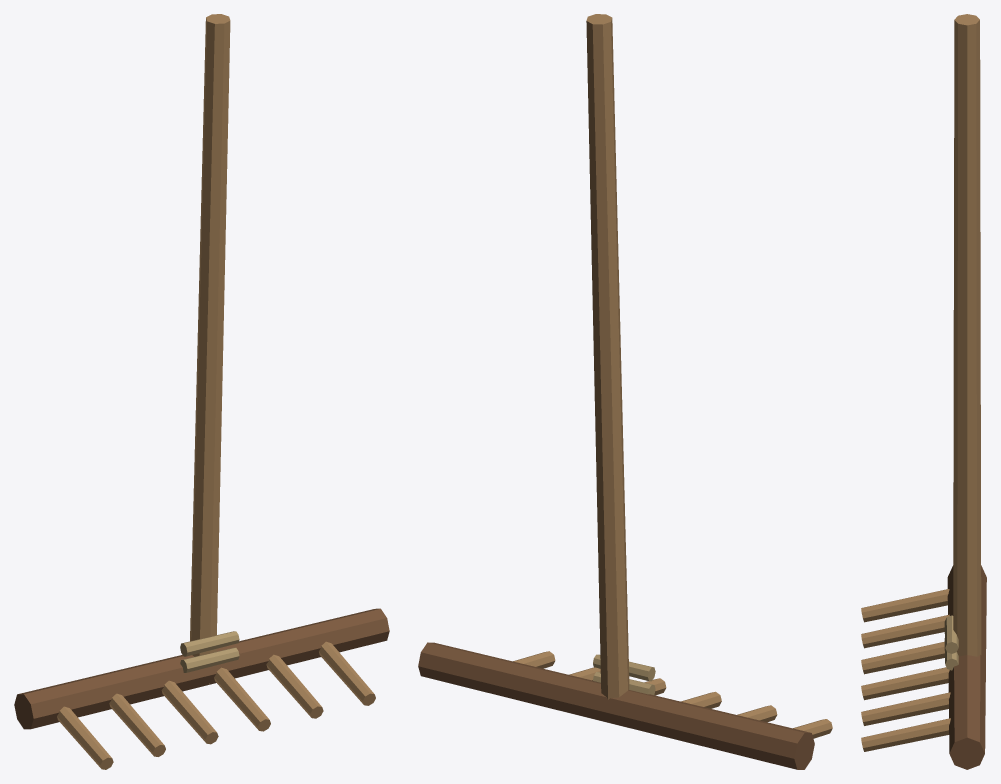
3 views of the same model, side by side, from view 1: azimuth 30°, elevation 25°; view 2: azimuth 150°, elevation 25°; view 3: azimuth 270°, elevation 25° (orthographic). The views are drawn at different scales.
Parts seen in each view (by area): view 1: CE-002 Wooden salt gathering rake batched; view 2: CE-002 Wooden salt gathering rake batched; view 3: CE-002 Wooden salt gathering rake batched.
Boxes of the visible parts, x1,y1,x2,y2 form: CE-002 Wooden salt gathering rake batched: (14,14,389,769); CE-002 Wooden salt gathering rake batched: (418,14,832,769); CE-002 Wooden salt gathering rake batched: (861,14,986,769).
Size of the model in its own units: 0.68 by 1.23 by 0.2049.
